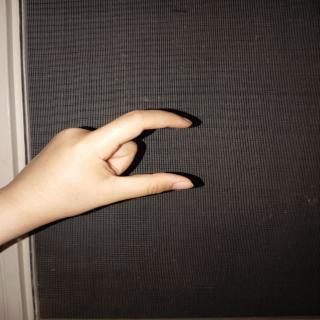DELL: (14, 96, 222, 239)
